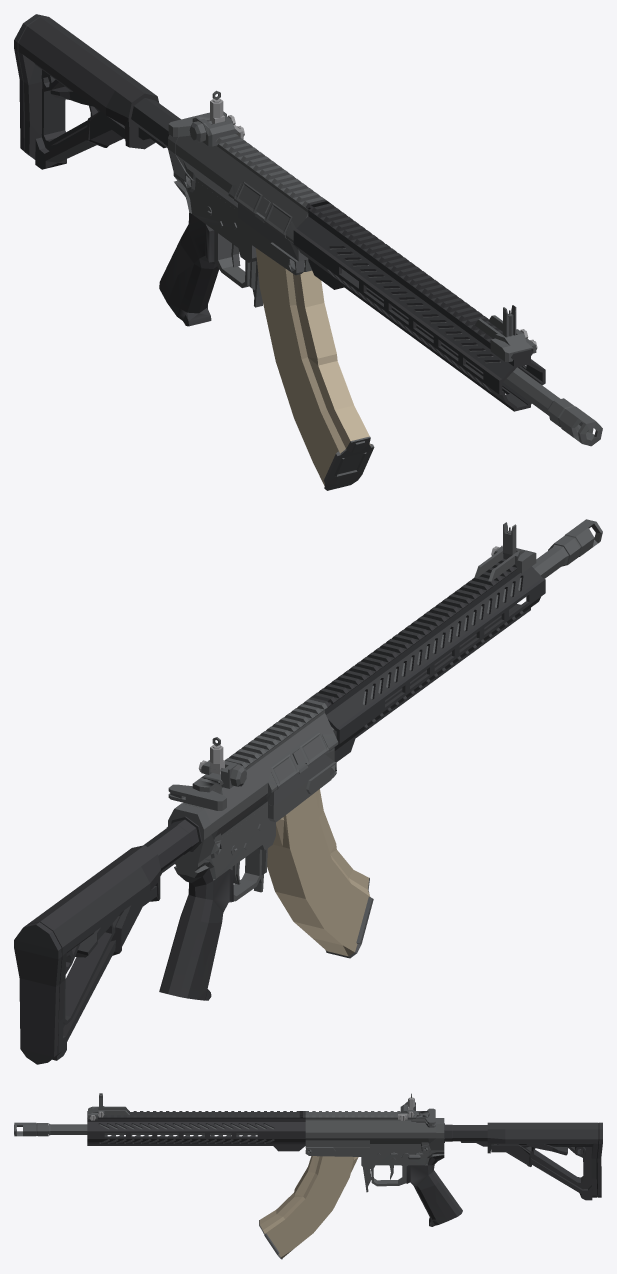
The picture shows the model from 3 angles, top to bottom: view 1: azimuth 30°, elevation 25°; view 2: azimuth 150°, elevation 25°; view 3: azimuth 270°, elevation 25°; orthographic projection. The views are drawn at different scales.
Visible parts, largest first — view 1: Body, Mag, IronSights; view 2: Body, Mag, Bolt, IronSights; view 3: Body, Mag.
Boxes of the visible parts, <box> form: Body: <box>14,14,602,446</box>; Mag: <box>255,248,374,490</box>; IronSights: <box>210,90,516,337</box>; Body: <box>14,519,602,1064</box>; Mag: <box>267,789,373,958</box>; Bolt: <box>168,784,226,810</box>; IronSights: <box>210,522,516,774</box>; Body: <box>14,1101,602,1226</box>; Mag: <box>259,1156,358,1259</box>.
Bounding box in the file's own units: 0.0498 × 0.2689 × 0.88.
